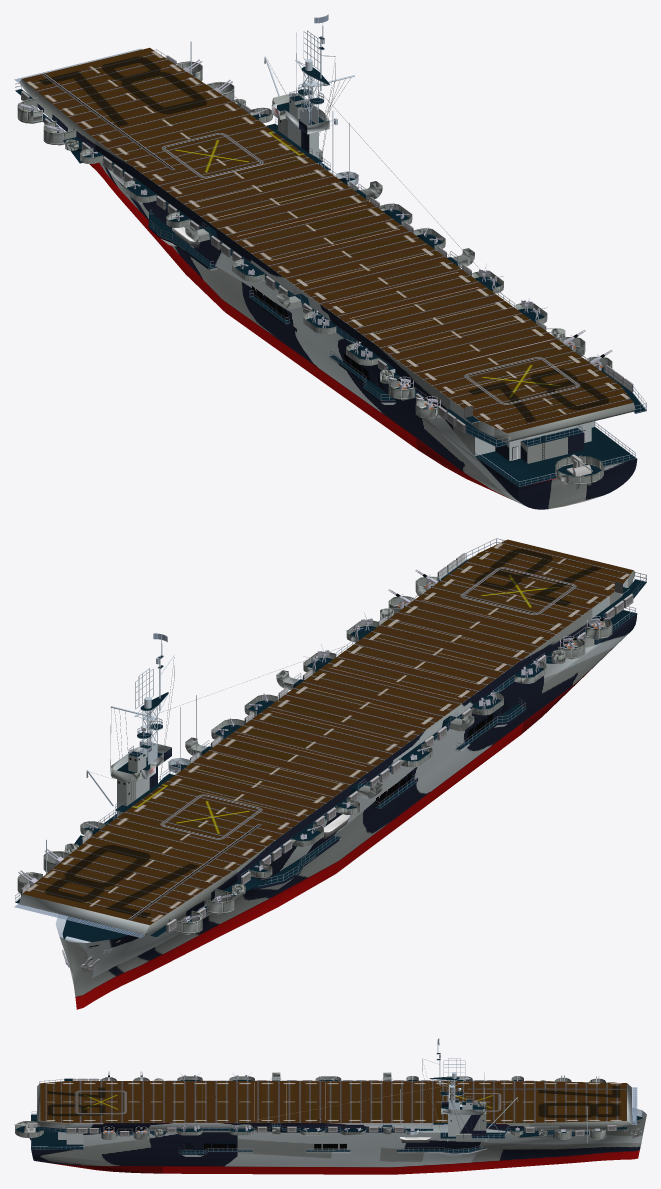
File: CVE_noflag_gun.glb
3 views of the same model, one above another, from view 1: azimuth 30°, elevation 25°; view 2: azimuth 150°, elevation 25°; view 3: azimuth 270°, elevation 25° (orthographic). The views are drawn at different scales.
Parts seen in each view (by area): view 1: deck, CVE; view 2: deck, CVE; view 3: CVE, deck.
Boxes of the visible parts, left/top/right/bottom form: deck: left=19, top=47, right=635, bottom=442; CVE: left=14, top=14, right=646, bottom=509; deck: left=19, top=539, right=635, bottom=934; CVE: left=14, top=538, right=646, bottom=1009; CVE: left=14, top=1038, right=646, bottom=1174; deck: left=37, top=1081, right=631, bottom=1132.
Bounding box in the file's own units: 121 × 123 × 497.
Materials: 16 (6 with a texture image).
